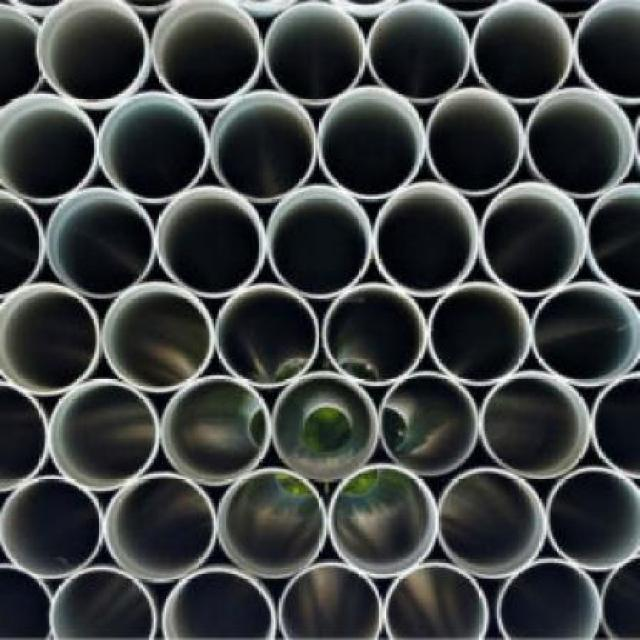pipe: (326, 465, 439, 578), (101, 282, 214, 393), (103, 471, 216, 582), (479, 182, 588, 296), (48, 379, 159, 490), (315, 85, 423, 198), (156, 185, 265, 296), (160, 376, 271, 485), (480, 371, 591, 479), (439, 468, 547, 579), (372, 182, 477, 296), (217, 470, 326, 579), (266, 185, 371, 298), (46, 187, 154, 296), (97, 92, 206, 200), (526, 88, 634, 197), (273, 371, 379, 482), (34, 2, 148, 105), (2, 281, 102, 397), (531, 280, 640, 386), (210, 90, 316, 199), (151, 2, 262, 105), (322, 282, 427, 385), (262, 2, 367, 105), (215, 285, 320, 387), (426, 282, 531, 384), (0, 476, 102, 579), (379, 371, 479, 476), (366, 2, 471, 102), (425, 88, 524, 194), (471, 2, 574, 102), (2, 91, 96, 200), (546, 466, 640, 571), (495, 557, 603, 640), (162, 568, 277, 640), (277, 562, 383, 640), (383, 563, 489, 640), (49, 566, 157, 639), (574, 2, 640, 100), (586, 183, 640, 296), (2, 379, 50, 493), (591, 371, 640, 476)
